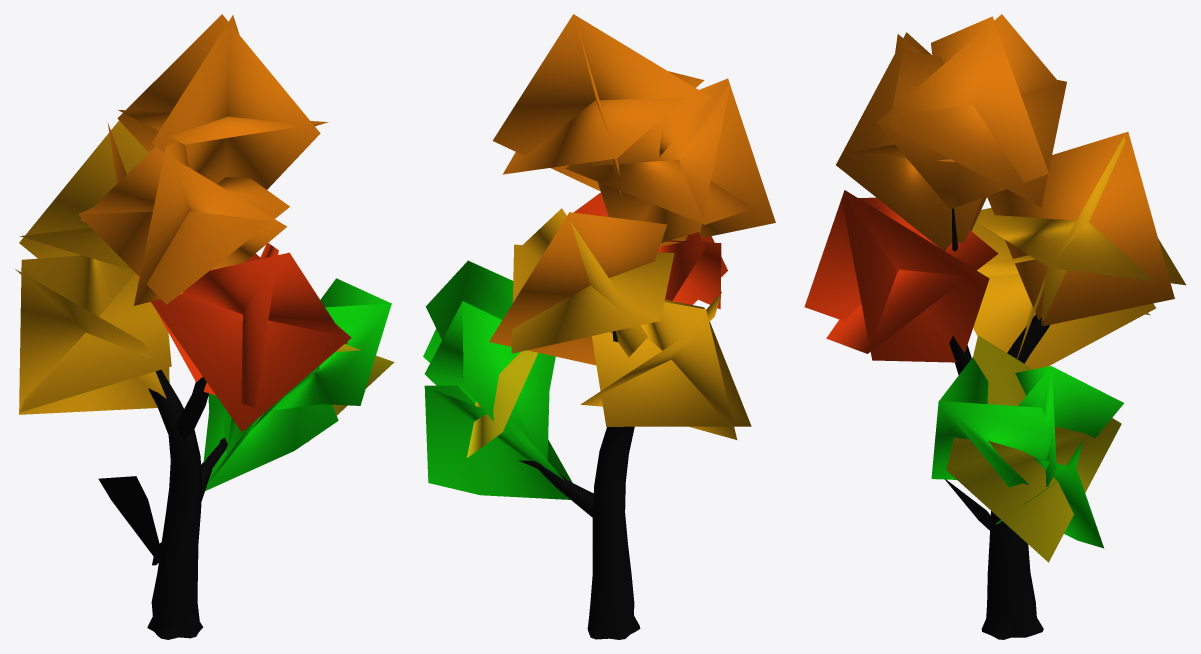
File: G_Banyan_010_S1.fbx
The picture shows the model from 3 angles, left to right: view 1: azimuth 30°, elevation 25°; view 2: azimuth 150°, elevation 25°; view 3: azimuth 270°, elevation 25°; orthographic projection. The views are drawn at different scales.
Visible parts, largest first — view 1: G_Banyan_010_S1_P01_LOD0; view 2: G_Banyan_010_S1_P01_LOD0; view 3: G_Banyan_010_S1_P01_LOD0.
Boxes of the visible parts, x1,y1,x2,y2 form: G_Banyan_010_S1_P01_LOD0: [15, 14, 394, 639]; G_Banyan_010_S1_P01_LOD0: [423, 14, 775, 639]; G_Banyan_010_S1_P01_LOD0: [804, 14, 1185, 639].
Size of what is drawn, in the model's own units: 114 by 194 by 106.
